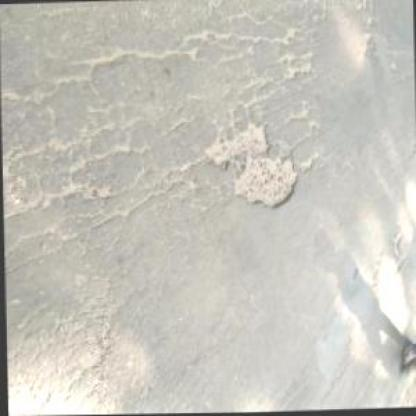pothole: (201, 116, 301, 211)
